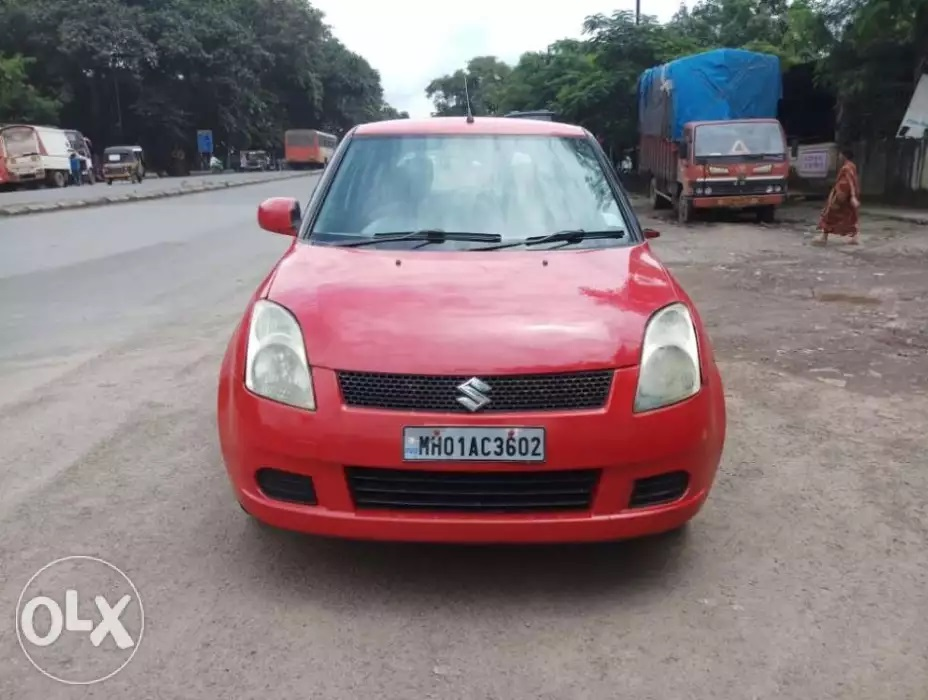licenseplate: (396, 421, 556, 468)
